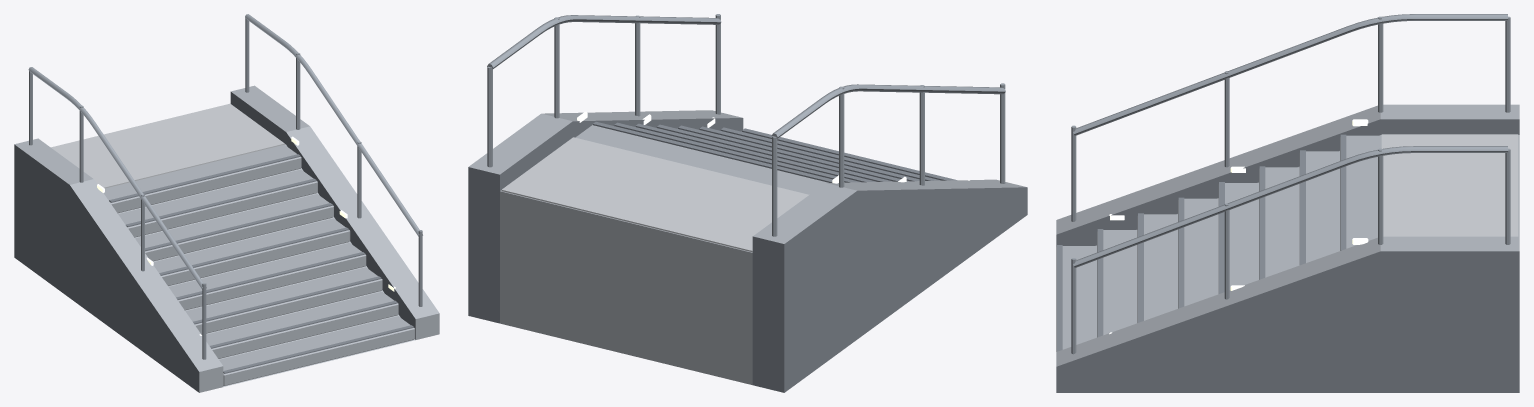
File: escada_praca_estreita.glb
3 renders of one model, left to right at view 1: azimuth 30°, elevation 25°; view 2: azimuth 150°, elevation 25°; view 3: azimuth 270°, elevation 25°, orthographic. The views are drawn at different scales.
Parts seen in each view (by area): view 1: escada_praca_estreita, colisao_rampa; view 2: escada_praca_estreita, colisao_rampa; view 3: escada_praca_estreita.
Boxes of the visible parts, left/top/right/bottom form: escada_praca_estreita: left=14, top=14, right=439, bottom=392; colisao_rampa: left=118, top=144, right=415, bottom=386; escada_praca_estreita: left=468, top=14, right=1027, bottom=392; colisao_rampa: left=500, top=190, right=752, bottom=384; escada_praca_estreita: left=1056, top=14, right=1519, bottom=392.
Bounding box in the file's own units: 3 × 2.28 × 4.
2 materials, 1 textured.
